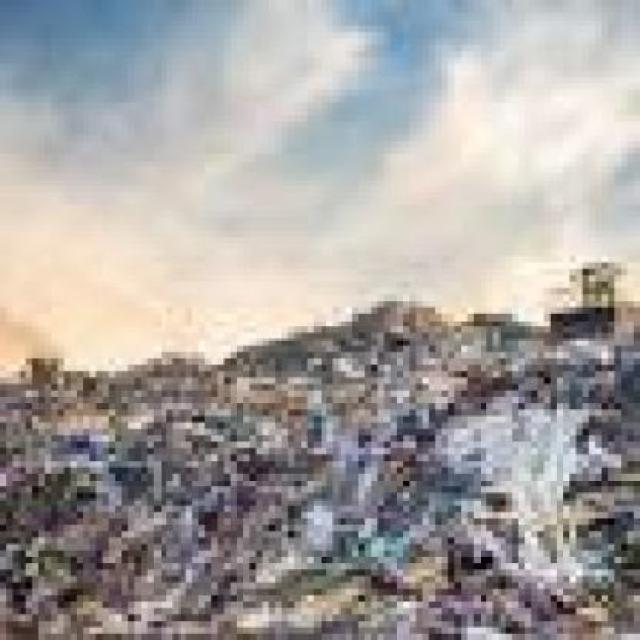garbage: (0, 326, 634, 633)
